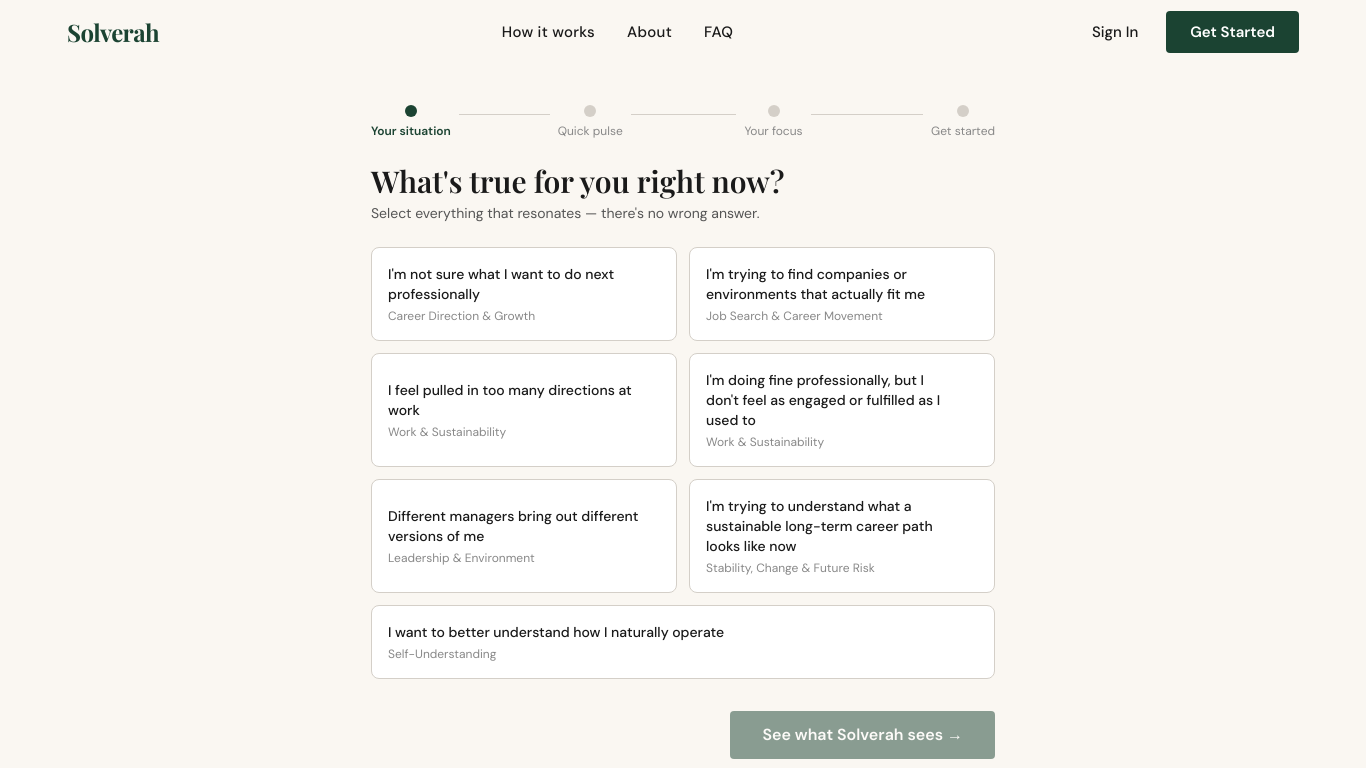
Test: CareerIntakePage — Step 1: Statement selection › CTA enables after selecting at least one statement
This screenshot has width=1366, height=768.
Click the 1st checkbox at (501, 274), box [371, 247, 677, 341]
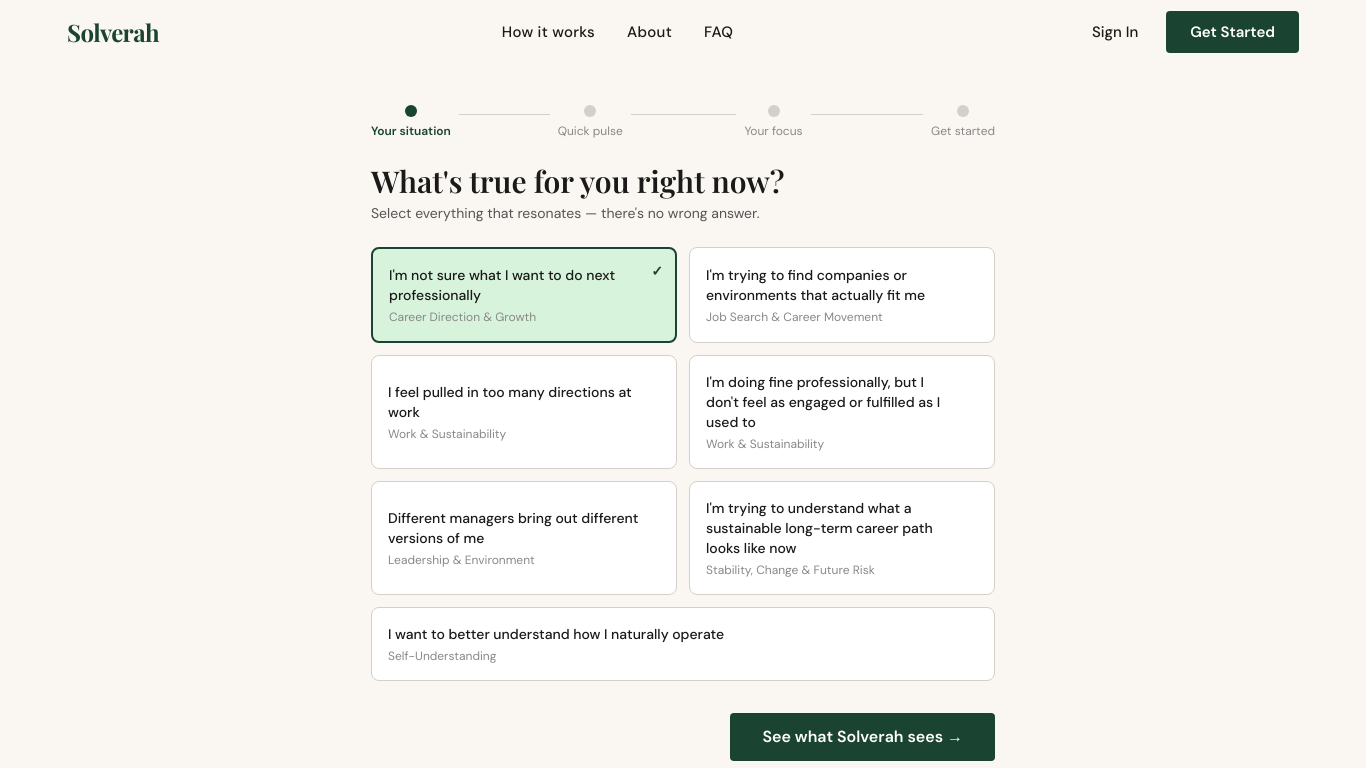
Expected: the button "See what Solverah sees →" is enabled, [730, 713, 995, 761]
